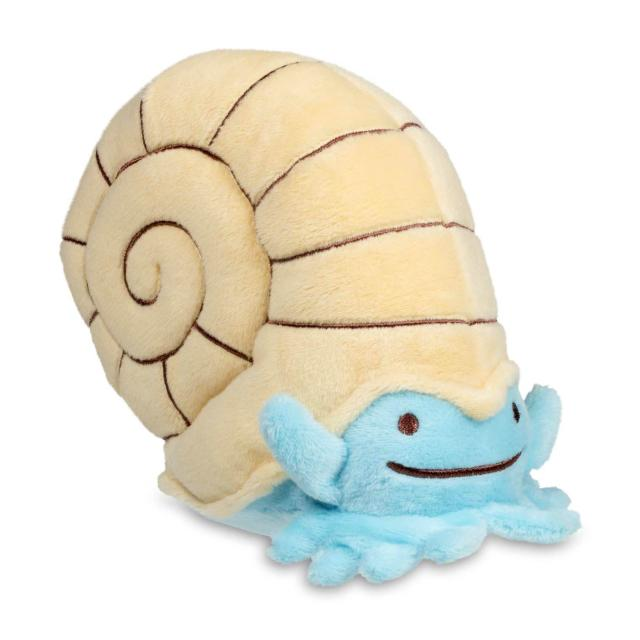Omanyte: (67, 48, 557, 567)
